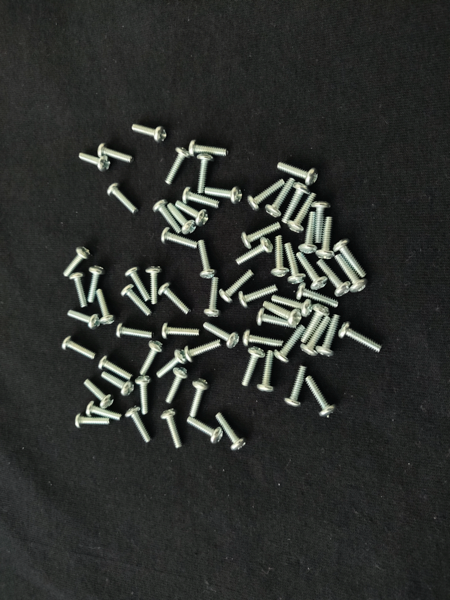shortscrew: (333, 238, 368, 278), (338, 322, 383, 353), (335, 253, 369, 293), (306, 376, 337, 418), (247, 179, 286, 212), (219, 269, 255, 304), (317, 260, 351, 297), (296, 252, 328, 291), (283, 182, 312, 225), (301, 317, 331, 358), (288, 192, 317, 234), (216, 413, 248, 451), (266, 178, 296, 218), (275, 325, 306, 363), (235, 238, 275, 267), (158, 282, 192, 316), (302, 304, 330, 345), (316, 315, 342, 358), (241, 222, 282, 249), (107, 183, 140, 216), (284, 365, 309, 408), (296, 283, 339, 308), (277, 162, 320, 187), (238, 284, 279, 310), (203, 322, 241, 350), (125, 406, 152, 445), (165, 146, 192, 185), (187, 417, 224, 445), (241, 347, 266, 388), (120, 285, 152, 317), (153, 199, 182, 234), (263, 302, 303, 327), (285, 243, 308, 285), (168, 203, 198, 235), (125, 266, 151, 302), (184, 339, 223, 363), (84, 379, 115, 409), (64, 246, 93, 278), (139, 340, 164, 377), (176, 200, 210, 227), (101, 371, 136, 397), (255, 308, 298, 329), (157, 349, 188, 378), (161, 409, 183, 449), (316, 216, 336, 260), (183, 187, 221, 210), (165, 368, 189, 404), (311, 201, 331, 244), (188, 378, 210, 417), (299, 209, 318, 254), (161, 228, 199, 250), (196, 151, 215, 195), (62, 336, 96, 360), (271, 236, 290, 278), (98, 357, 132, 380), (198, 240, 218, 279), (243, 329, 284, 348), (204, 278, 223, 318), (96, 289, 117, 325), (257, 351, 275, 393), (86, 401, 123, 421), (98, 144, 135, 164), (132, 123, 168, 143), (87, 266, 106, 303), (69, 273, 88, 309), (146, 266, 164, 304), (163, 322, 201, 340), (205, 187, 243, 205), (135, 375, 152, 415), (189, 141, 229, 158), (79, 152, 111, 173), (68, 310, 100, 330), (116, 324, 154, 339), (75, 413, 109, 429)
